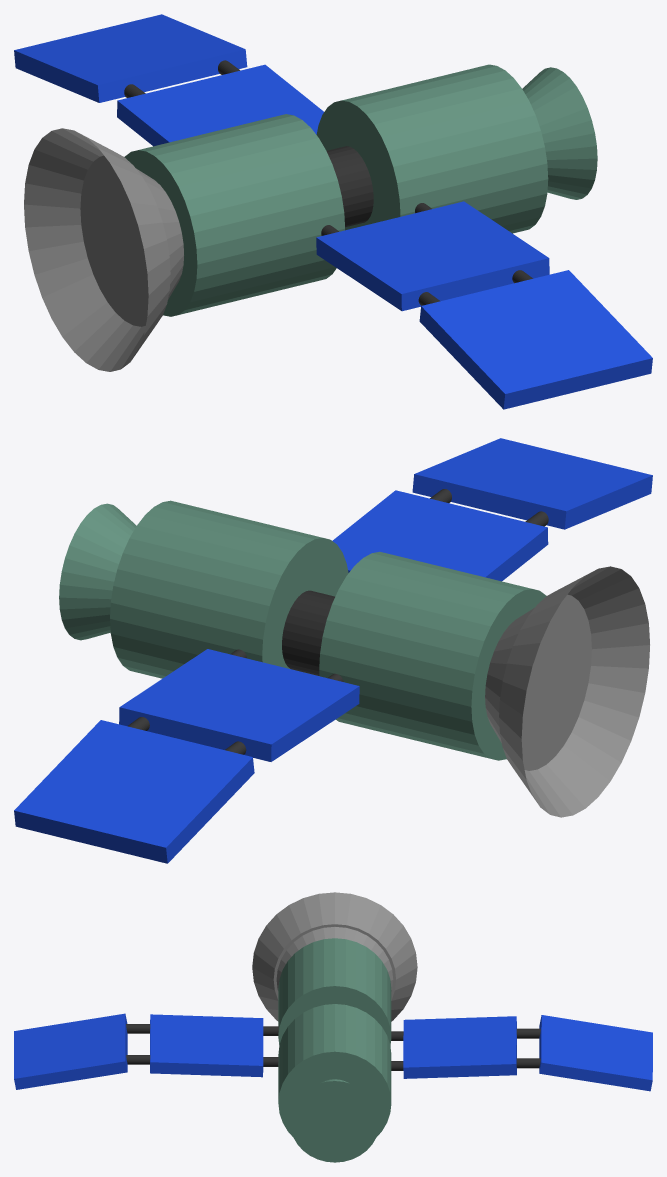
The model's file is satelit.gltf.
3 views of the same model, one above another, from view 1: azimuth 30°, elevation 25°; view 2: azimuth 150°, elevation 25°; view 3: azimuth 270°, elevation 25° (orthographic). The views are drawn at different scales.
Parts seen in each view (by area): view 1: Cylinder, Cylinder.004, Cylinder.001, Cube.001, Cube, Cube.003, Cube.002, Cylinder.003, Cylinder.002; view 2: Cylinder.004, Cylinder, Cylinder.001, Cube.003, Cube.002, Cube.001, Cube, Cylinder.003, Cylinder.002; view 3: Cylinder.004, Cylinder.001, Cylinder, Cube.002, Cube, Cube.003, Cube.001, Cylinder.003.
Boxes of the visible parts, left/top/right/bottom form: Cylinder: left=124, top=114, right=344, bottom=316; Cylinder.004: left=24, top=128, right=183, bottom=371; Cylinder.001: left=316, top=64, right=548, bottom=233; Cube.001: left=419, top=270, right=652, bottom=409; Cube: left=316, top=201, right=549, bottom=311; Cube.003: left=14, top=14, right=247, bottom=102; Cube.002: left=117, top=64, right=323, bottom=146; Cylinder.003: left=522, top=67, right=597, bottom=199; Cylinder.002: left=326, top=146, right=373, bottom=227; Cylinder.004: left=485, top=566, right=649, bottom=817; Cylinder: left=319, top=551, right=546, bottom=760; Cylinder.001: left=110, top=500, right=348, bottom=678; Cube.003: left=14, top=720, right=254, bottom=863; Cube.002: left=119, top=649, right=359, bottom=761; Cube.001: left=412, top=438, right=652, bottom=529; Cube: left=332, top=490, right=548, bottom=581; Cylinder.003: left=59, top=503, right=136, bottom=640; Cylinder.002: left=282, top=590, right=334, bottom=675; Cylinder.004: left=252, top=892, right=417, bottom=1021; Cylinder.001: left=278, top=1004, right=391, bottom=1136; Cylinder: left=278, top=938, right=391, bottom=1045; Cube.002: left=403, top=1016, right=516, bottom=1078; Cube: left=150, top=1014, right=263, bottom=1077; Cube.003: left=539, top=1015, right=652, bottom=1091; Cube.001: left=14, top=1013, right=127, bottom=1089; Cylinder.003: left=290, top=1079, right=379, bottom=1162.
Bounding box in the file's own units: 6.46 × 2.92 × 11.3.
